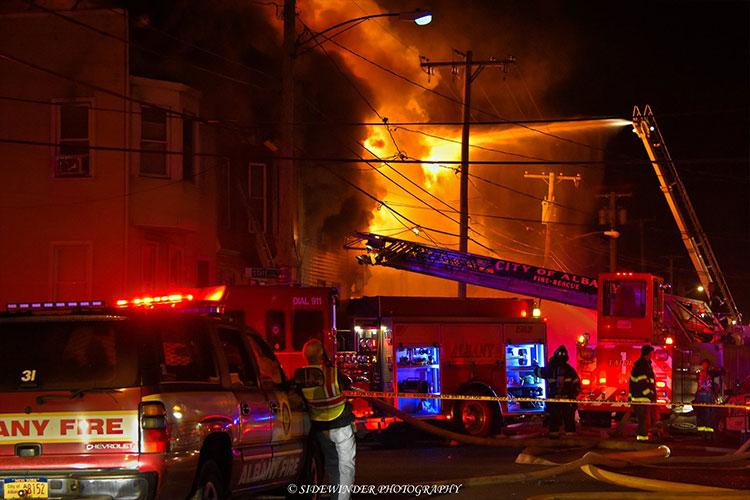Fire: (325, 43, 513, 274)
